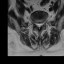CCS_normal: (37, 20, 39, 30)
LFS_normal: (41, 18, 44, 26)
LLS_normal: (39, 20, 41, 29)
RFS_normal: (33, 18, 35, 26)
RLS_normal: (35, 20, 37, 28)
